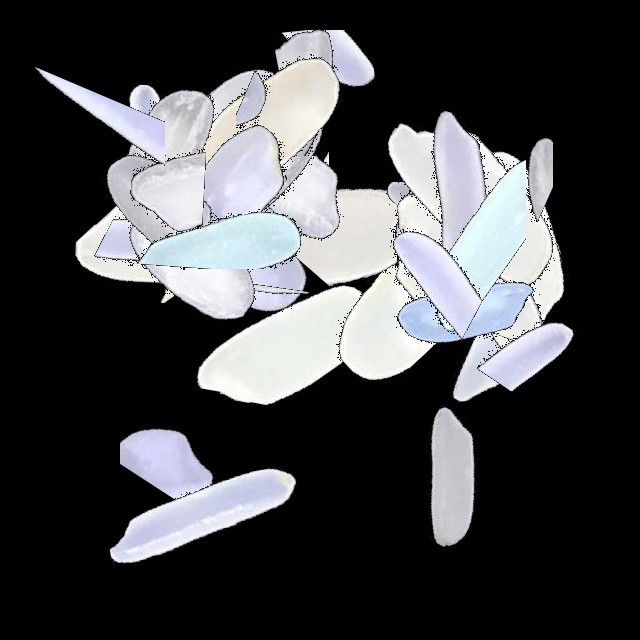Broken: (62, 173, 312, 341), (394, 115, 560, 365), (330, 182, 580, 346), (271, 74, 433, 324), (106, 137, 356, 288), (375, 89, 526, 339), (120, 299, 264, 549), (285, 212, 535, 355), (75, 102, 325, 240), (89, 132, 339, 269), (224, 24, 474, 156), (13, 123, 263, 254), (34, 40, 165, 290), (164, 30, 278, 280), (466, 206, 580, 456), (130, 76, 243, 326), (446, 50, 553, 300), (185, 30, 435, 134), (210, 212, 313, 462), (236, 0, 331, 250), (108, 39, 202, 289), (24, 210, 274, 303), (405, 176, 493, 426), (368, 245, 618, 329), (150, 119, 231, 369), (249, 6, 329, 256), (40, 172, 290, 247)
Full: (325, 353, 575, 603), (35, 58, 285, 308), (382, 190, 632, 440), (158, 215, 408, 465), (51, 122, 301, 372), (128, 137, 378, 387), (296, 168, 546, 418), (100, 0, 350, 250), (378, 129, 628, 379), (117, 102, 367, 352), (160, 58, 410, 308), (145, 36, 395, 286), (315, 129, 565, 379), (61, 46, 311, 296), (140, 0, 390, 250), (39, 31, 289, 281), (113, 56, 363, 306), (76, 389, 326, 639), (67, 144, 317, 394), (344, 78, 594, 328), (340, 183, 590, 433), (36, 80, 286, 330), (334, 91, 584, 341)
